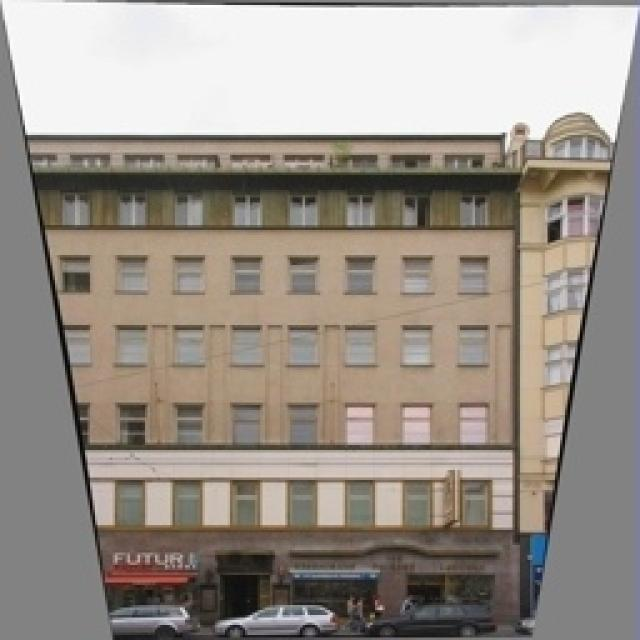building: (5, 92, 623, 630)
